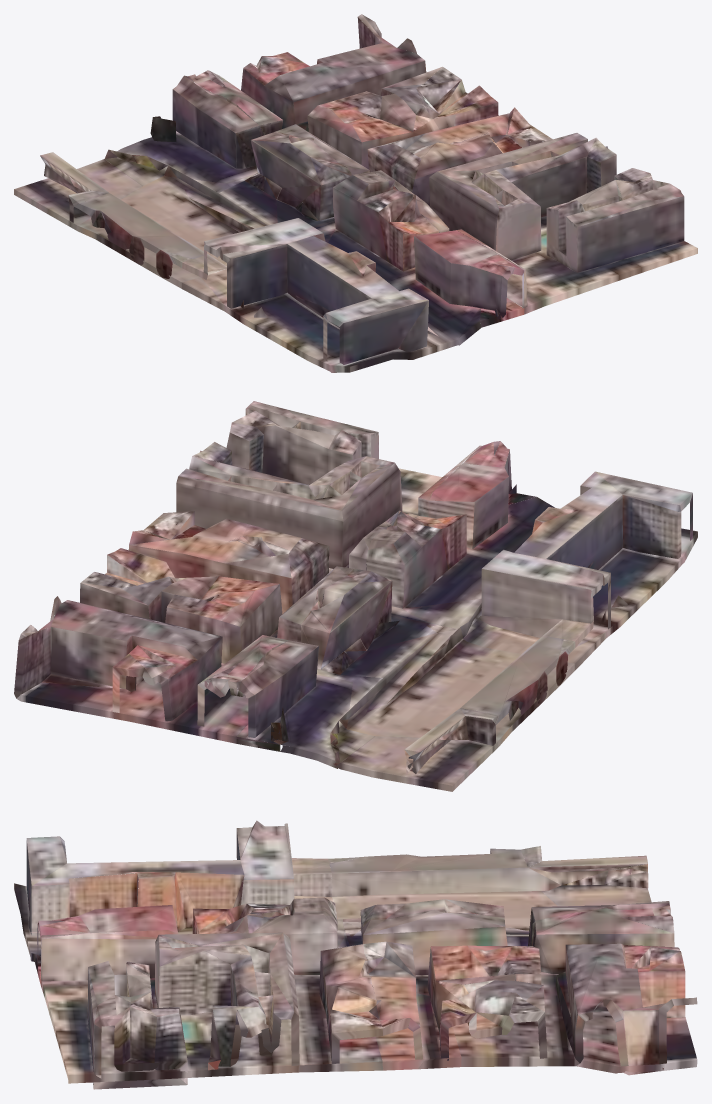
3 views of the same model, one above another, from view 1: azimuth 30°, elevation 25°; view 2: azimuth 150°, elevation 25°; view 3: azimuth 270°, elevation 25° (orthographic). The views are drawn at different scales.
Parts seen in each view (by area): view 1: Mesh_0; view 2: Mesh_0; view 3: Mesh_0.
Part boxes in pixels (x1,y1,x2,y2): Mesh_0: (14,14,697,372); Mesh_0: (14,401,697,791); Mesh_0: (14,820,697,1089).
Size of the model in its own units: 266 by 49.39 by 330.
Materials: 2 (2 with a texture image).
